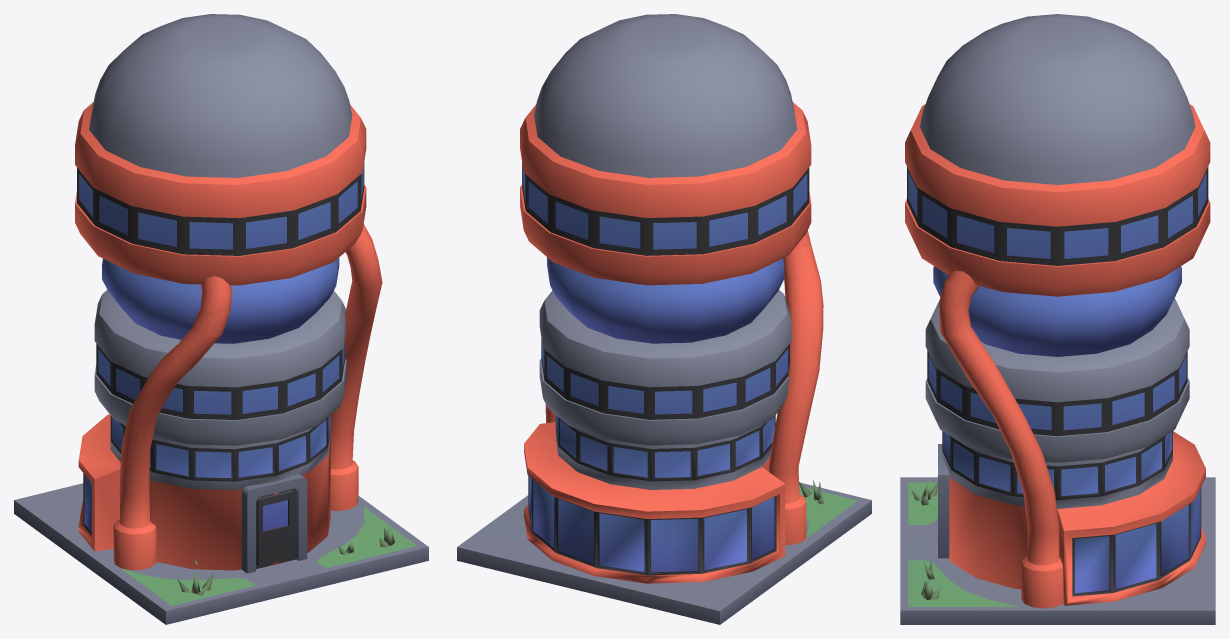
Rendered from building-arcology.glb.
The picture shows the model from 3 angles, left to right: view 1: azimuth 30°, elevation 25°; view 2: azimuth 150°, elevation 25°; view 3: azimuth 270°, elevation 25°; orthographic projection. The views are drawn at different scales.
Parts seen in each view (by area): view 1: building-arcology; view 2: building-arcology; view 3: building-arcology.
Part boxes in pixels (x1,y1,x2,y2): building-arcology: (14, 14, 428, 624); building-arcology: (457, 14, 871, 624); building-arcology: (900, 14, 1215, 624).
Bounding box in the file's own units: 1 × 1.83 × 1.
Materials: 2 (2 with a texture image).
